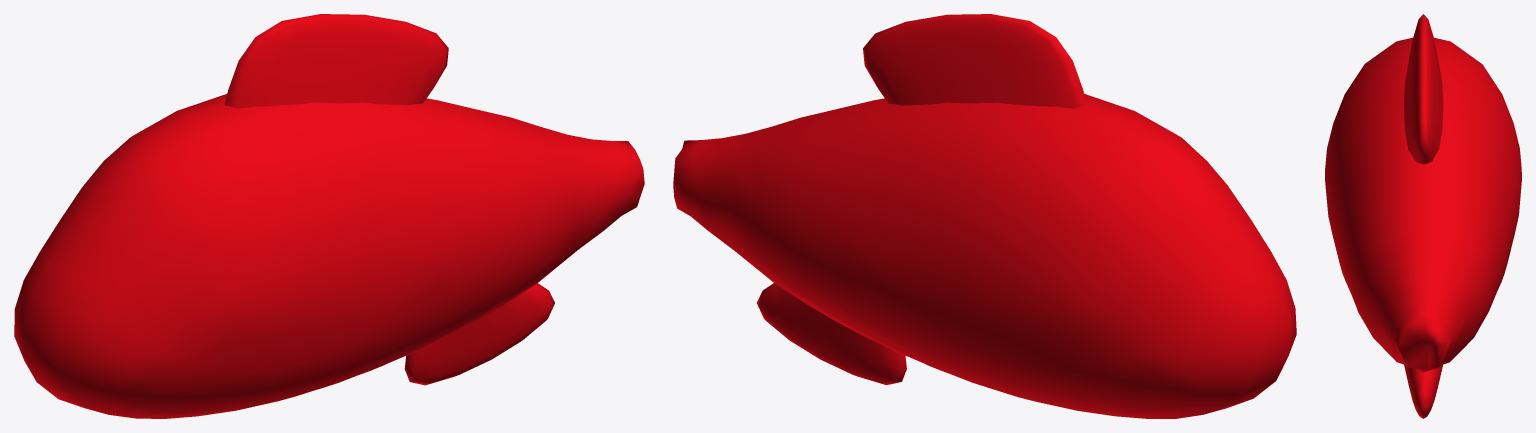
File: fish_main_red.glb
3 views of the same model, side by side, from view 1: azimuth 30°, elevation 25°; view 2: azimuth 150°, elevation 25°; view 3: azimuth 270°, elevation 25° (orthographic). The views are drawn at different scales.
Visible parts, largest first — view 1: node_id6; view 2: node_id6; view 3: node_id6.
Part boxes in pixels (<box>): node_id6: <box>14,14,644,418</box>; node_id6: <box>673,14,1296,418</box>; node_id6: <box>1325,14,1521,418</box>.
Bounding box in the file's own units: 0.512 × 0.3218 × 0.1769.
